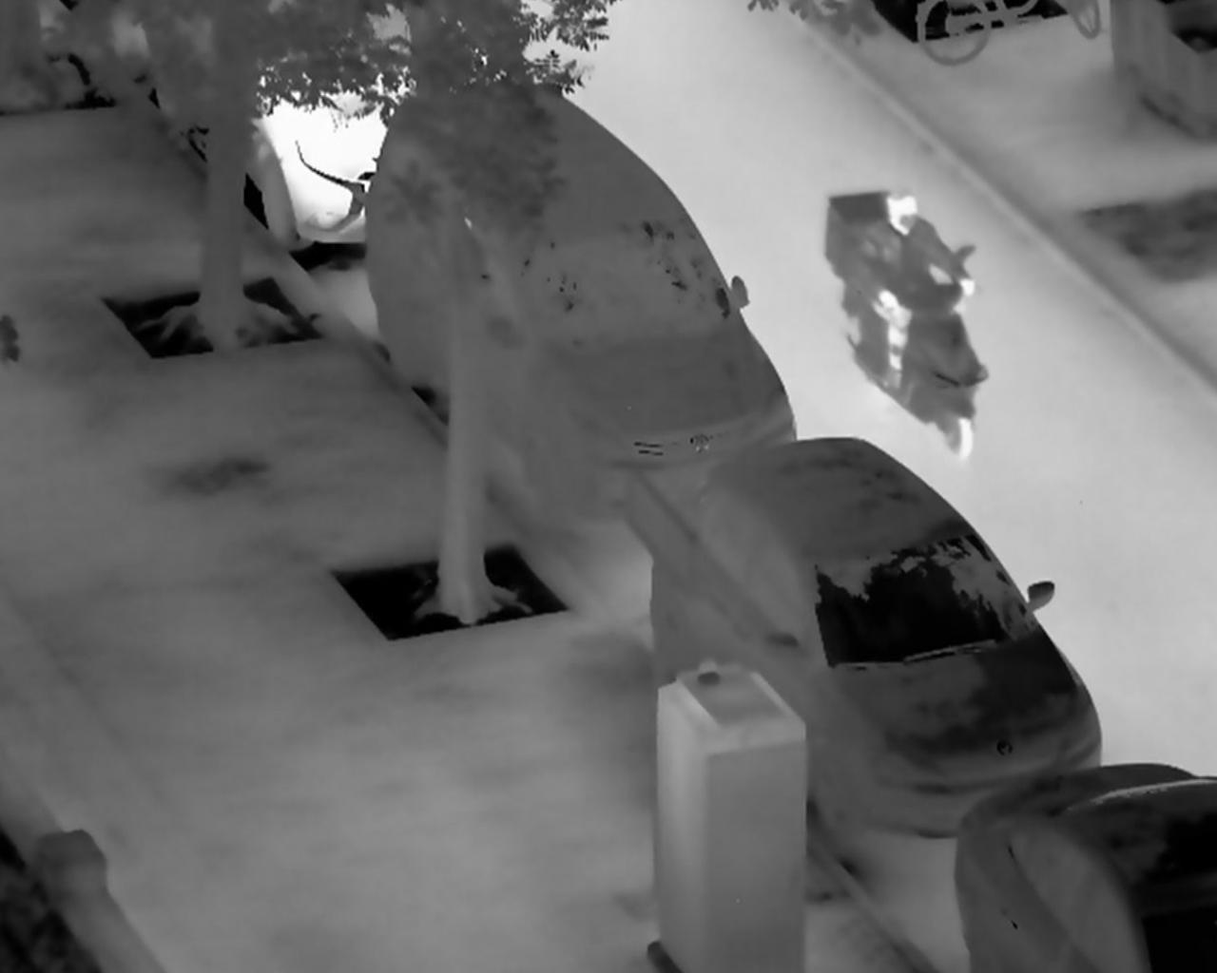person: (843, 189, 978, 395)
